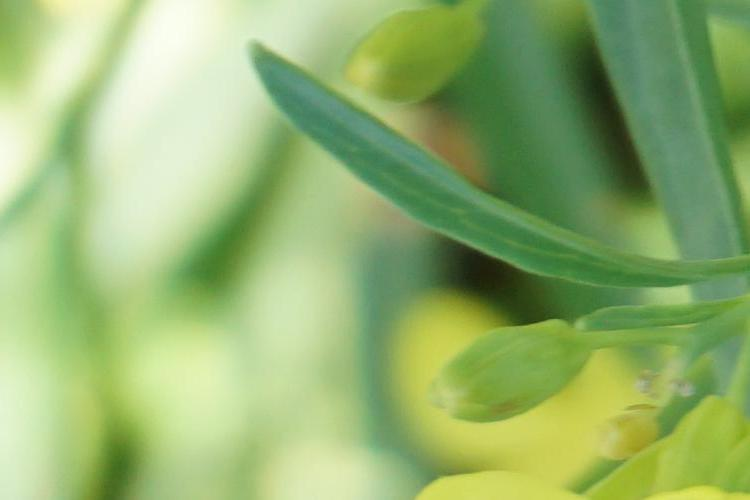bud: (416, 316, 600, 434), (336, 8, 485, 108), (587, 409, 663, 462)
